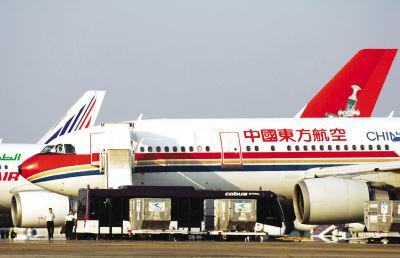airplane: (17, 104, 400, 213)
